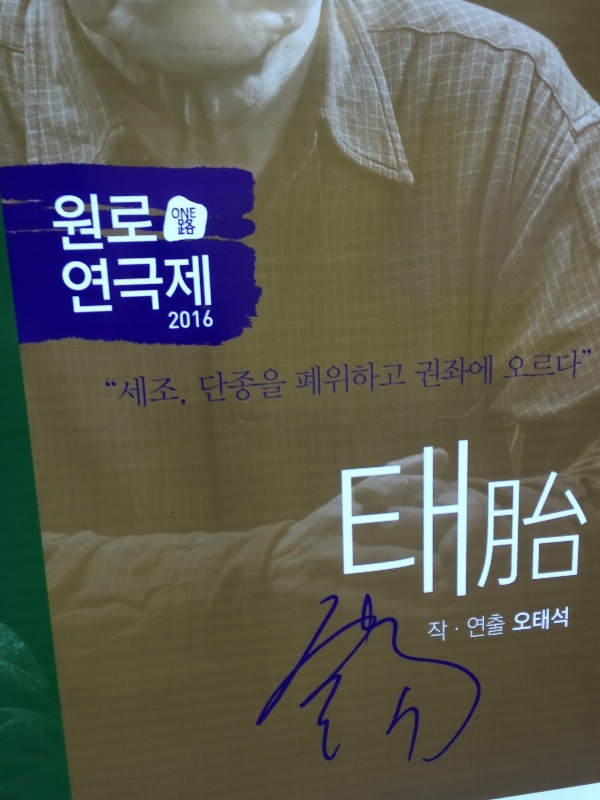text: (289, 583, 304, 787), (305, 583, 320, 787), (321, 583, 336, 787), (337, 583, 352, 787), (353, 583, 368, 787), (369, 583, 384, 787), (385, 583, 400, 787), (401, 583, 416, 787), (417, 583, 432, 787), (433, 583, 448, 787), (449, 583, 464, 787), (465, 583, 480, 787), (481, 583, 496, 787), (497, 583, 512, 787), (513, 583, 528, 787), (353, 437, 368, 602), (369, 437, 384, 602), (385, 437, 400, 602), (401, 437, 416, 602), (417, 437, 432, 602), (433, 437, 448, 602), (449, 437, 464, 602), (276, 583, 288, 787), (340, 437, 352, 602), (145, 192, 161, 256), (65, 253, 80, 318), (81, 253, 96, 318), (97, 253, 112, 318), (113, 253, 128, 318), (129, 253, 144, 318), (145, 253, 160, 318), (161, 253, 176, 318), (177, 253, 192, 318), (193, 253, 208, 318), (65, 192, 80, 256), (81, 192, 96, 256), (97, 192, 112, 256), (113, 192, 128, 256), (129, 192, 144, 256), (53, 192, 64, 256), (305, 357, 320, 403), (321, 357, 336, 403), (337, 357, 352, 403), (353, 357, 368, 403), (369, 357, 384, 403), (385, 357, 400, 403), (465, 437, 469, 602), (209, 366, 224, 409), (225, 366, 240, 409), (241, 366, 256, 409), (257, 366, 272, 409), (273, 366, 288, 409), (417, 351, 432, 392), (433, 351, 448, 392), (449, 351, 464, 392), (465, 351, 480, 392), (513, 348, 528, 384), (529, 348, 544, 384), (545, 348, 560, 384), (561, 348, 576, 384), (577, 348, 592, 384), (113, 374, 128, 410), (129, 374, 144, 410), (145, 374, 160, 410), (161, 374, 176, 410), (433, 611, 448, 645), (449, 611, 464, 645), (465, 611, 480, 645), (481, 611, 496, 645), (481, 351, 493, 392), (197, 366, 208, 409), (177, 374, 190, 410), (529, 606, 544, 635), (545, 606, 560, 635), (295, 357, 304, 403), (177, 308, 192, 334), (193, 308, 208, 334), (515, 606, 528, 635), (497, 611, 506, 645), (104, 374, 112, 410), (401, 357, 407, 403), (209, 253, 213, 318), (561, 606, 569, 635), (179, 219, 192, 236), (177, 207, 192, 221), (168, 308, 176, 334), (529, 583, 530, 787), (61, 253, 64, 318), (209, 308, 215, 334), (508, 348, 512, 384), (428, 611, 432, 645), (172, 207, 176, 221), (193, 207, 197, 221), (193, 219, 196, 236), (415, 351, 416, 392)
